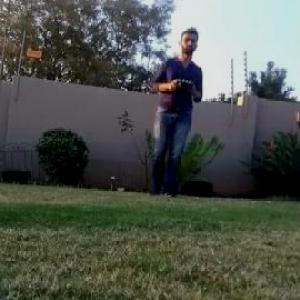follow: (136, 23, 206, 201)
